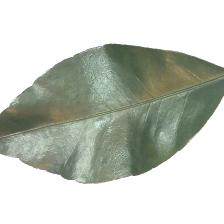healthy: (0, 46, 224, 181)
